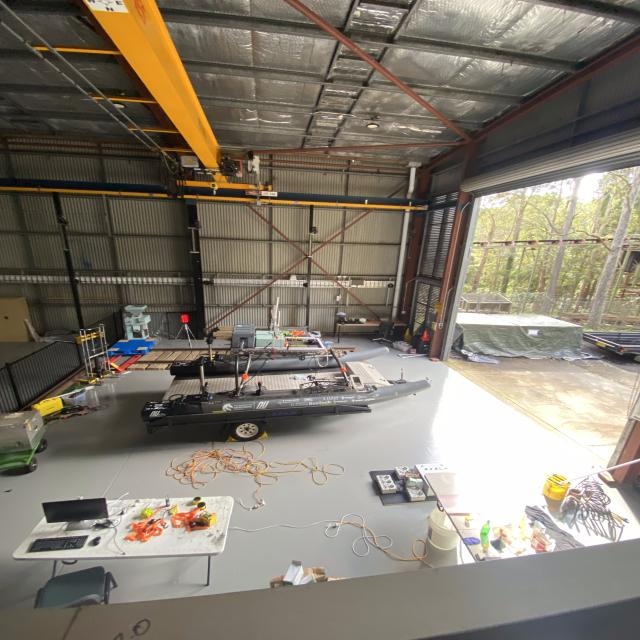matrix: (180, 313, 190, 324)
